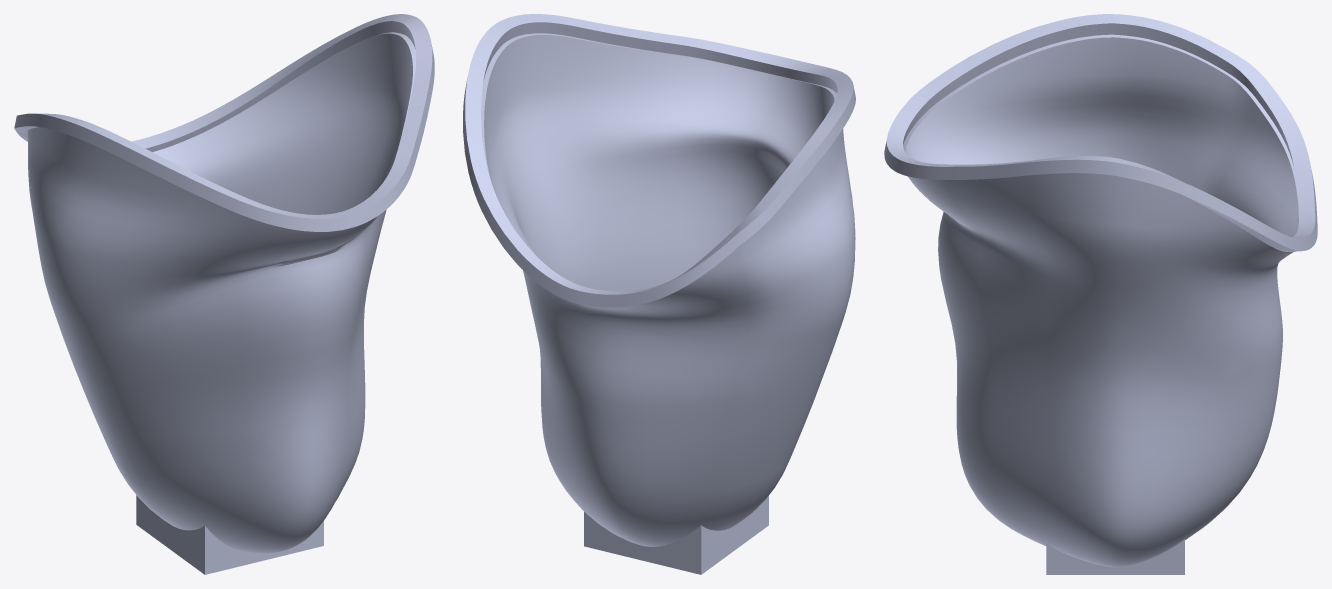
Rendered from stumpsurfacemodelling.glb.
3 renders of one model, left to right at view 1: azimuth 30°, elevation 25°; view 2: azimuth 150°, elevation 25°; view 3: azimuth 270°, elevation 25°, orthographic. The views are drawn at different scales.
Parts seen in each view (by area): view 1: Part2^Assem2-1; view 2: Part2^Assem2-1; view 3: Part2^Assem2-1.
Boxes of the visible parts, bbox=[...] form: Part2^Assem2-1: bbox=[14, 14, 434, 574]; Part2^Assem2-1: bbox=[463, 14, 855, 574]; Part2^Assem2-1: bbox=[884, 14, 1317, 574].
Size of the model in its own units: 0.1526 by 0.1975 by 0.1563.
